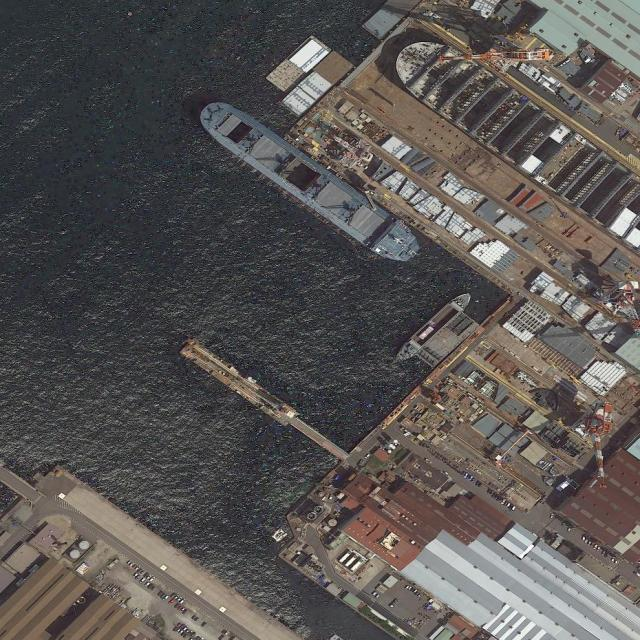Cargo: (191, 89, 429, 275)
Dock: (178, 337, 352, 463)
Other Ship: (393, 288, 476, 366)
